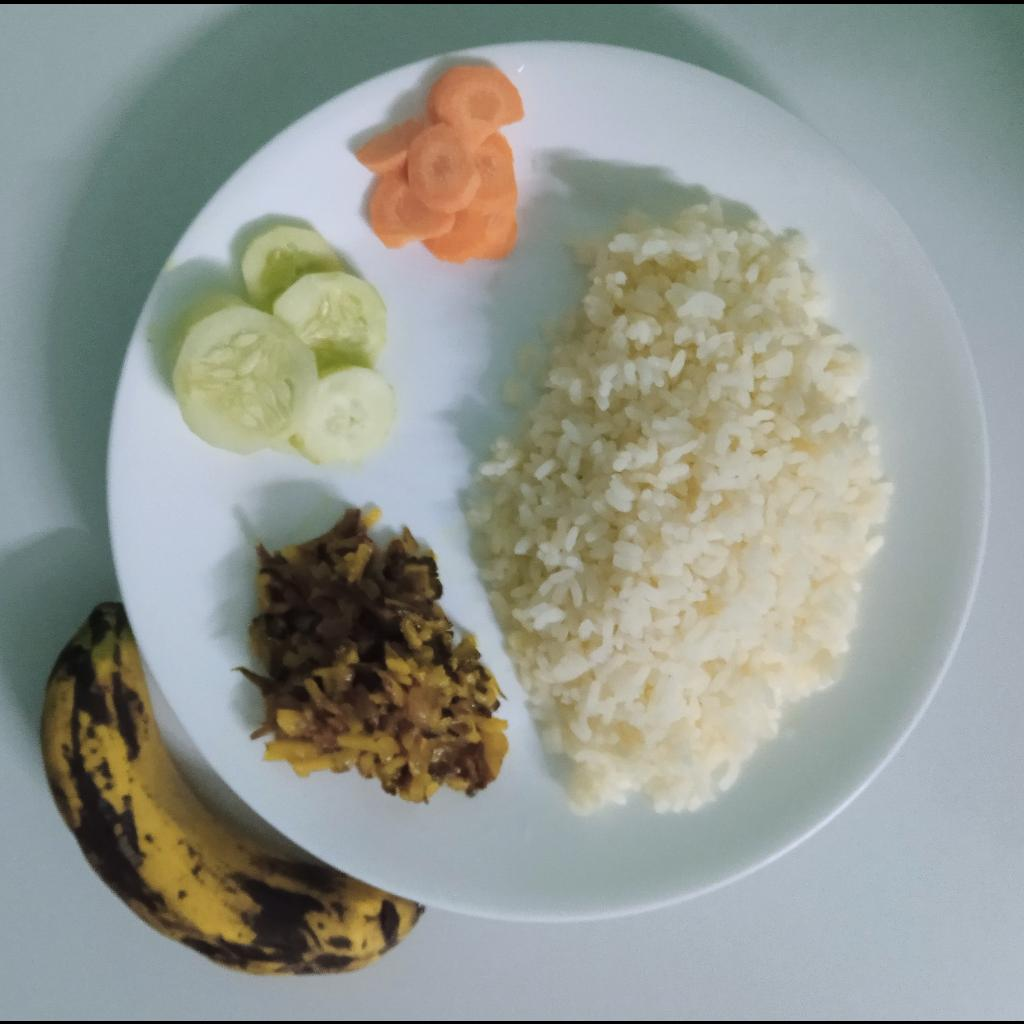banana: (39, 602, 419, 976)
carrot: (351, 59, 525, 264)
cucumber: (158, 222, 398, 465)
rice: (467, 194, 897, 824)
vegetable: (232, 504, 511, 803)
